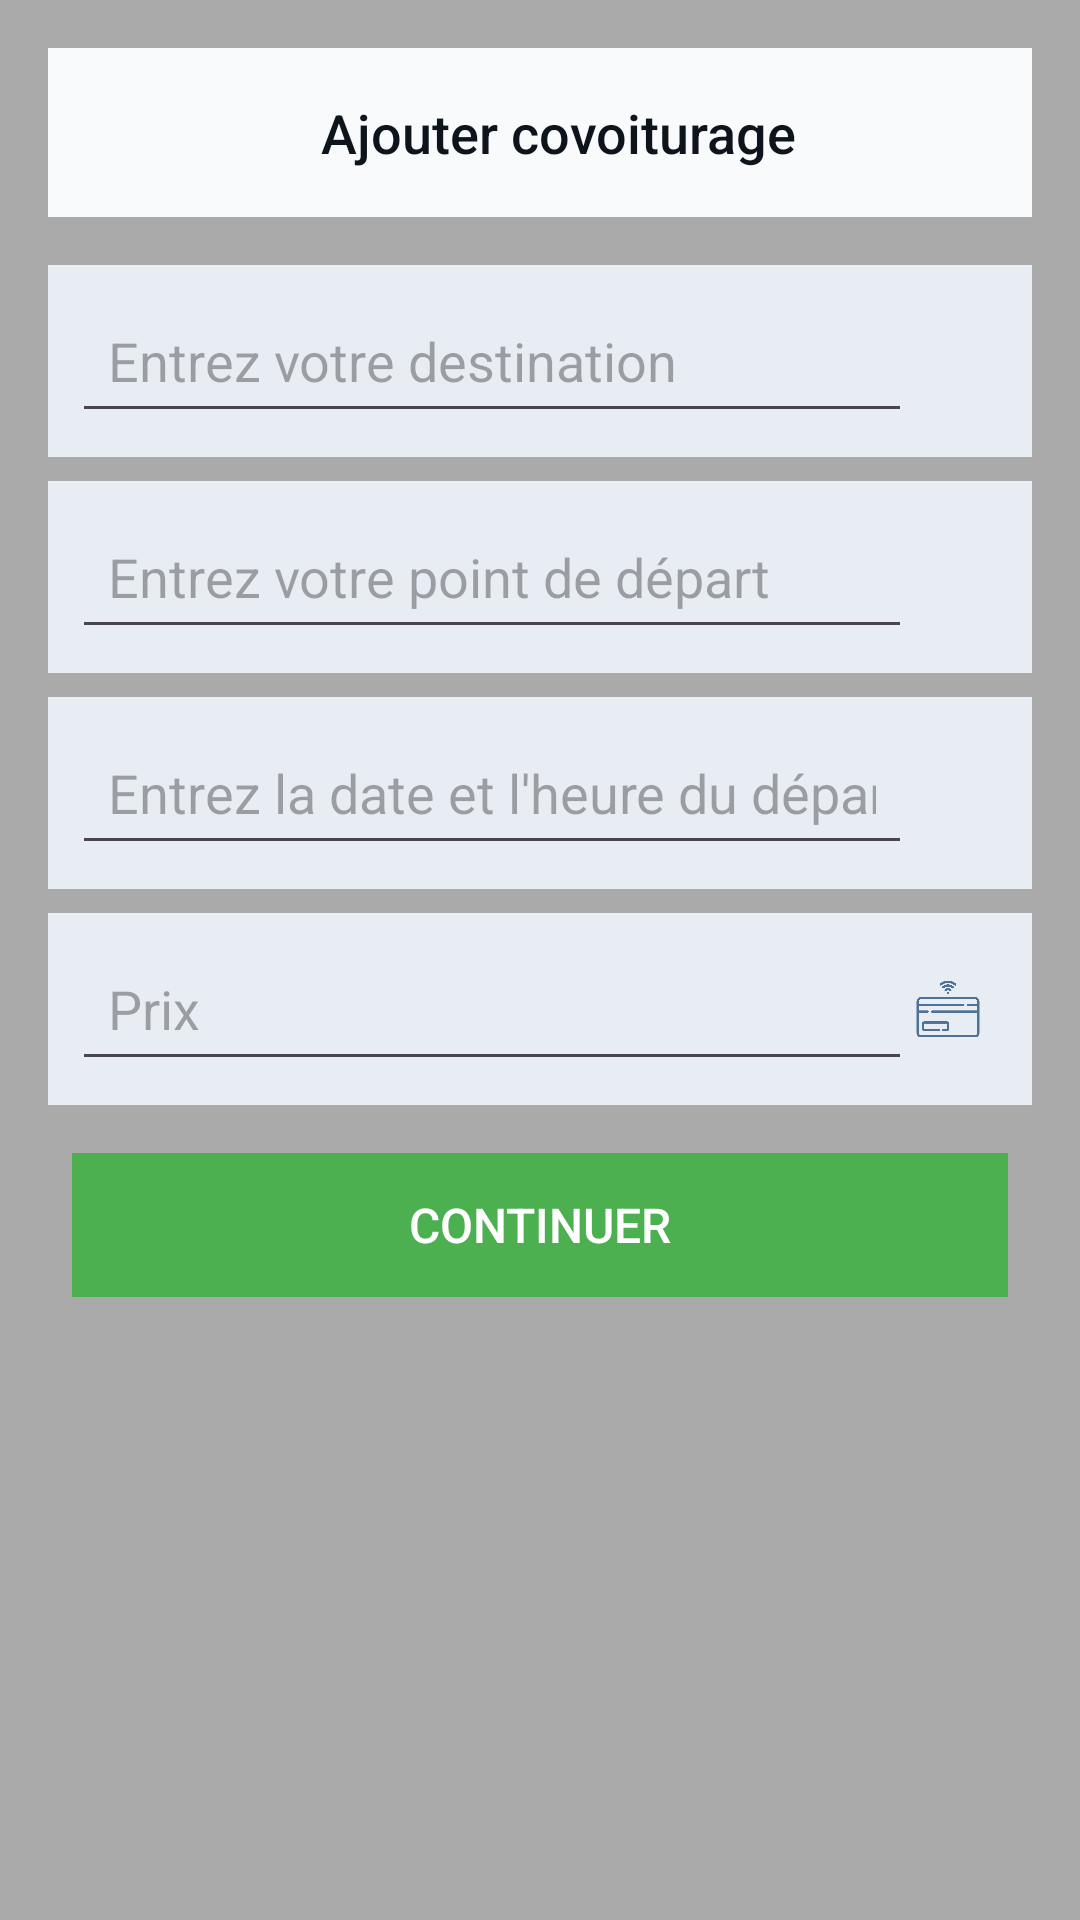

Icon bounding boxes for this 1080px x 1920px phone screenshot, format box(x1, y1, x2, y2):
credit card: box(916, 981, 980, 1037)
